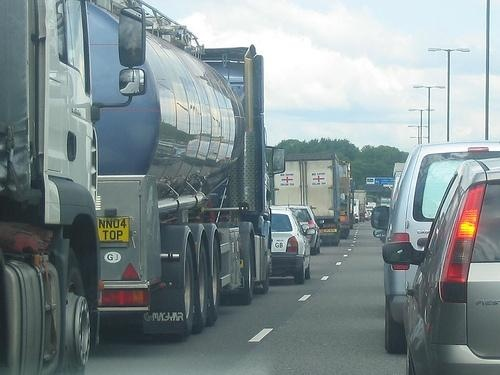car: (379, 142, 500, 357), (404, 160, 500, 375), (269, 208, 313, 284), (289, 206, 321, 256)
